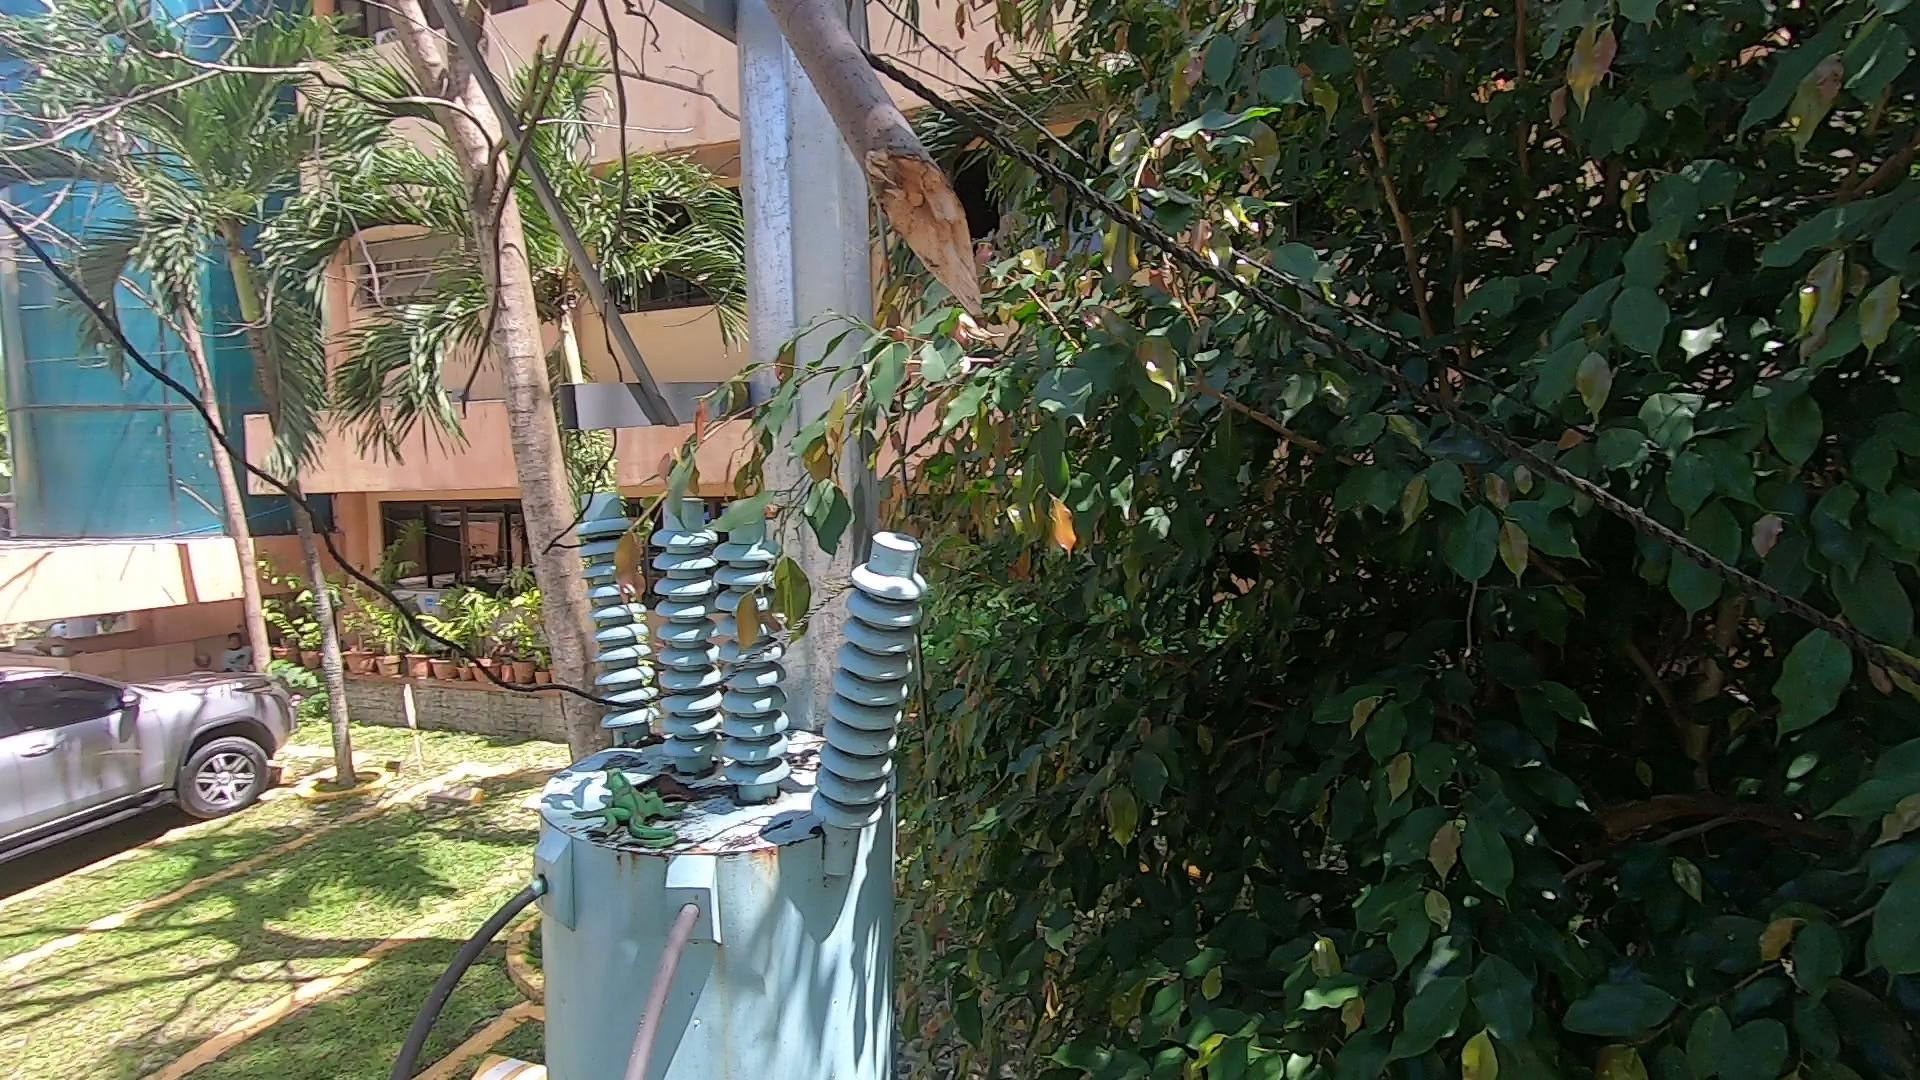branch with leaves: (604, 368, 862, 684)
leaf: (628, 767, 745, 825), (622, 717, 673, 756), (778, 742, 818, 774)
tree branch: (686, 1, 1026, 363)
